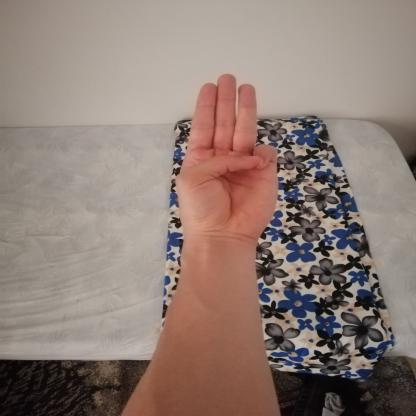THA: (162, 63, 293, 251)
